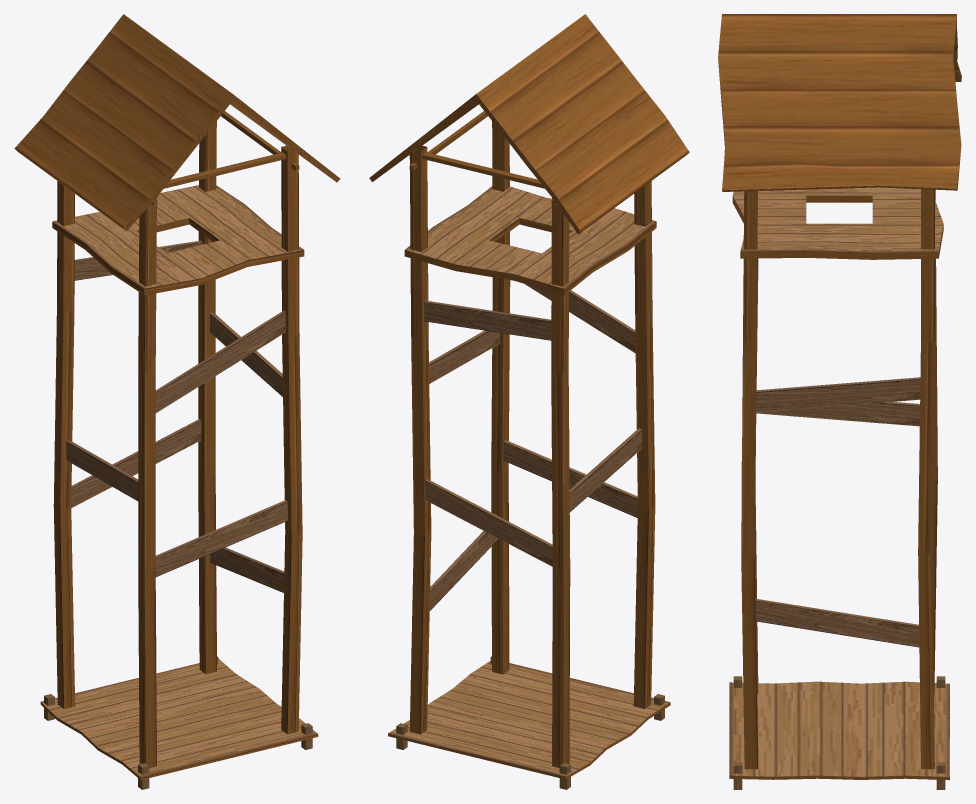
Rendered from decorLarge-harbor-64.glb.
3 views of the same model, side by side, from view 1: azimuth 30°, elevation 25°; view 2: azimuth 150°, elevation 25°; view 3: azimuth 270°, elevation 25° (orthographic). The views are drawn at different scales.
Visible parts, largest first — view 1: piece; view 2: piece; view 3: piece.
Boxes of the visible parts, left/top/right/bottom form: piece: left=14, top=14, right=340, bottom=789; piece: left=369, top=14, right=689, bottom=789; piece: left=718, top=14, right=961, bottom=789.
Size of the model in its own units: 3.17 by 9.56 by 2.89.
Materials: 1 (1 with a texture image).
